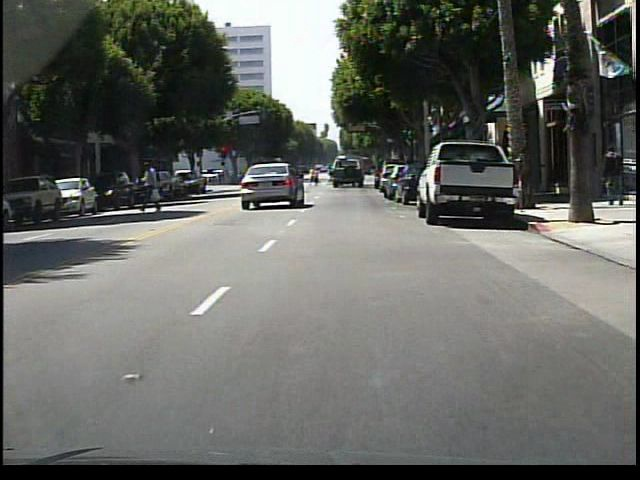person: (598, 145, 625, 206), (143, 157, 164, 213), (311, 165, 322, 187)
